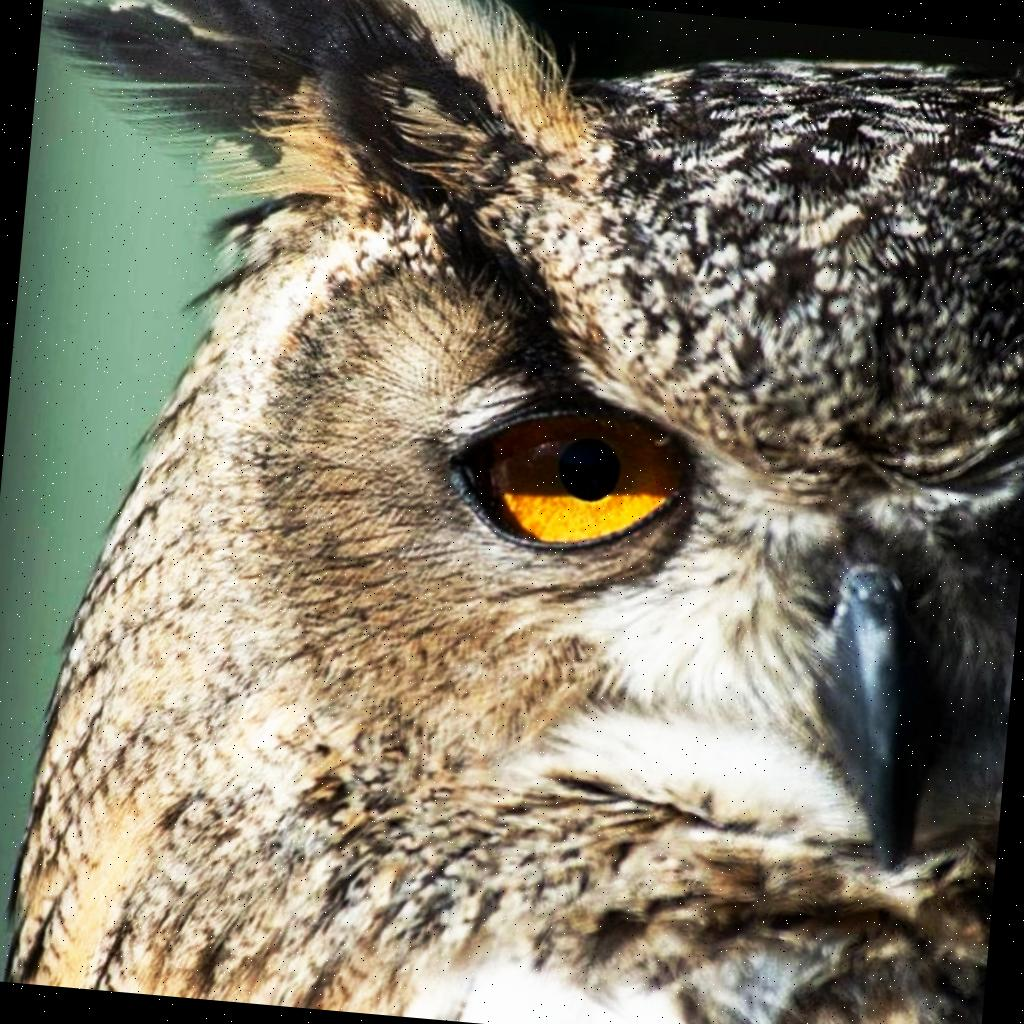Owl: (75, 55, 1024, 1024)
